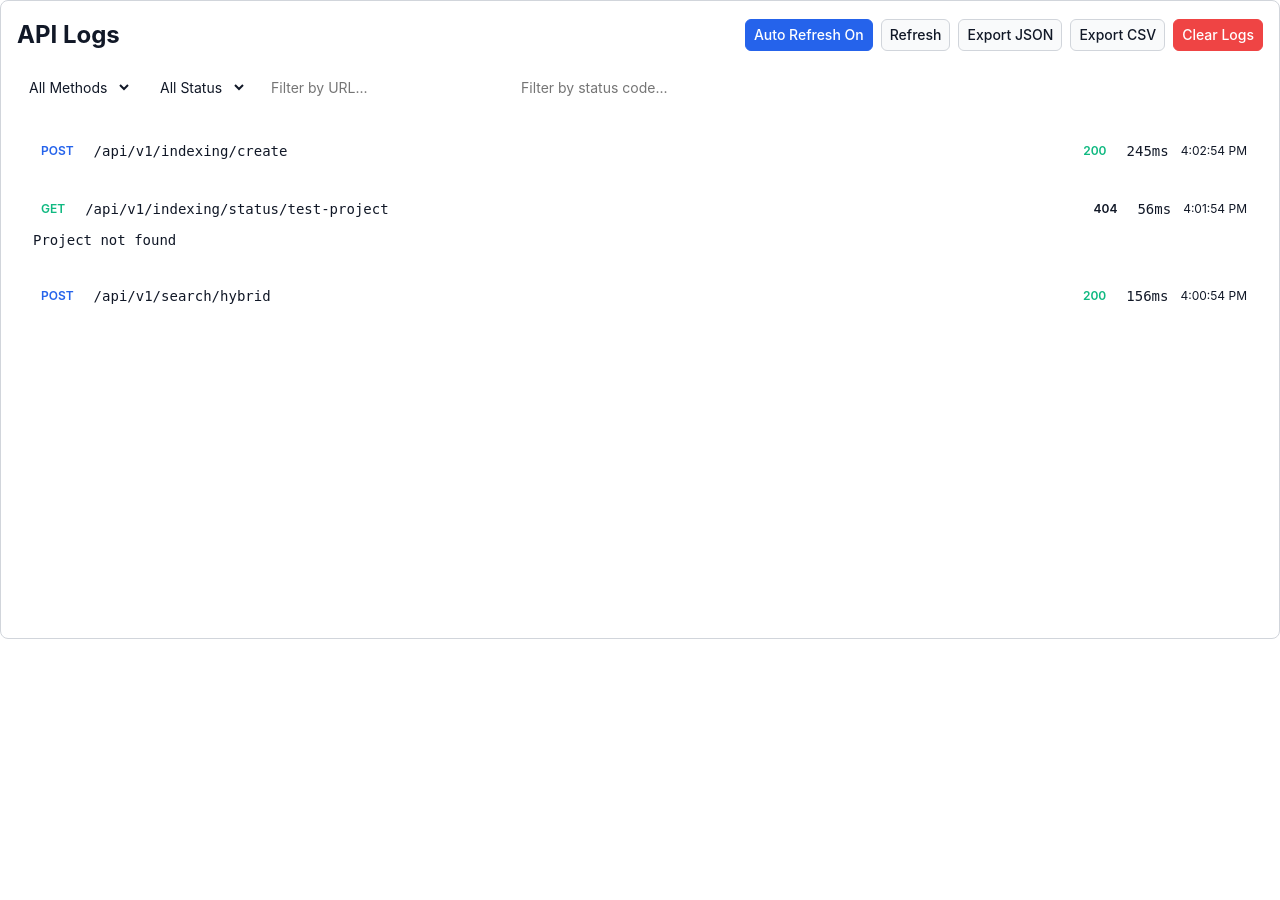
it: ApiLogs Component › filters logs by success status
expect the text "200" is shown 2 times: met, box [1083,143,1106,158]; [1083,288,1106,303]
expect the text "404" is shown: met, box [1094,201,1117,216]
// Filter by success only
Select "Success" in the 2nd dropdown at (198, 88), box [148,69,247,106]
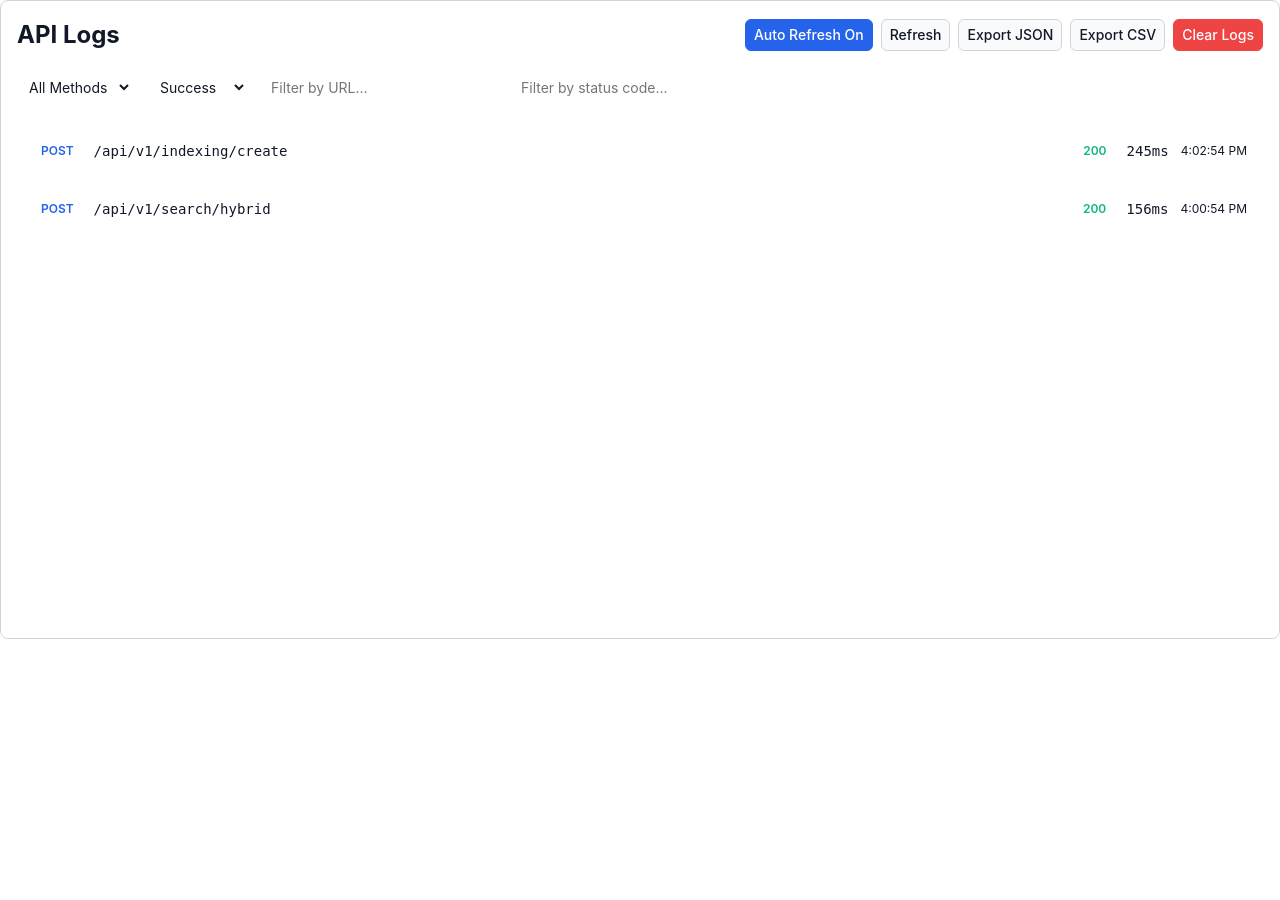
expect the text "200" is shown 2 times: met, box [1083,143,1106,158]; [1083,201,1106,216]
expect the text "404" is gone: met
